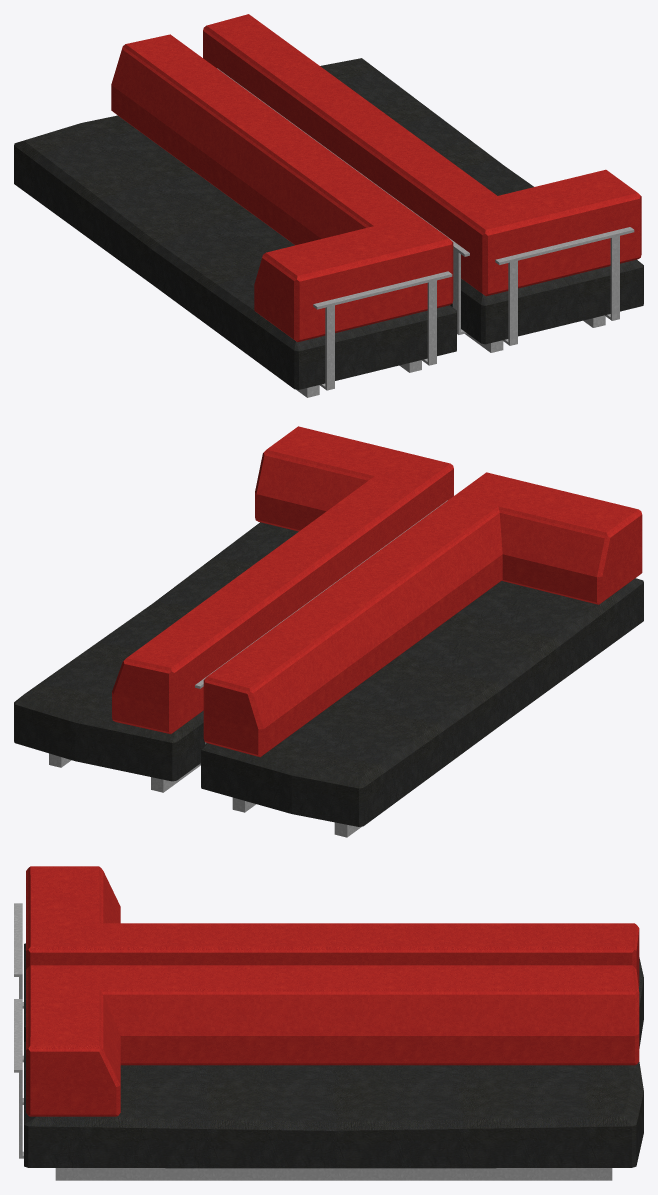
File: P_Sofas.fbx
The picture shows the model from 3 angles, top to bottom: view 1: azimuth 30°, elevation 25°; view 2: azimuth 150°, elevation 25°; view 3: azimuth 270°, elevation 25°; orthographic projection. The views are drawn at different scales.
Visible parts, largest first — view 1: Empty_Mesh; view 2: Empty_Mesh; view 3: Empty_Mesh.
Part boxes in pixels (left/top/right/bottom): Empty_Mesh: left=14, top=14, right=643, bottom=397; Empty_Mesh: left=14, top=426, right=643, bottom=837; Empty_Mesh: left=14, top=866, right=643, bottom=1180.
Size of the model in its own units: 2.42 by 0.8957 by 3.5.
